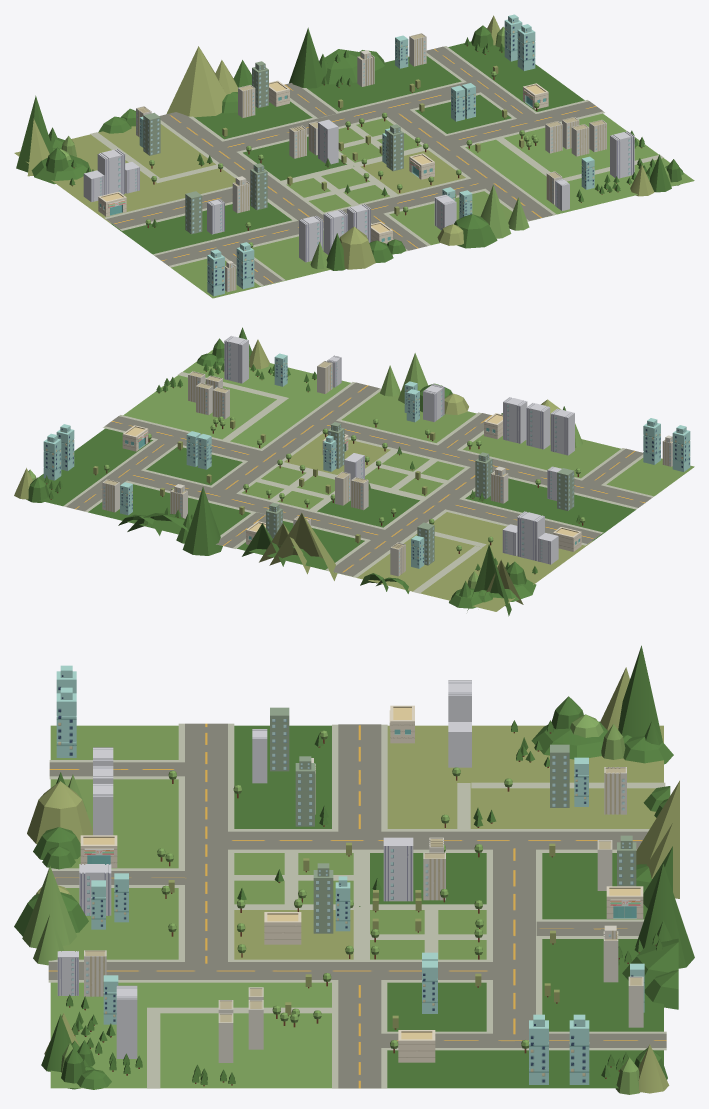
The picture shows the model from 3 angles, top to bottom: view 1: azimuth 30°, elevation 25°; view 2: azimuth 150°, elevation 25°; view 3: azimuth 270°, elevation 25°; orthographic projection. The views are drawn at different scales.
Parts seen in each view (by area): view 1: pPlane2, road2, polySurface1, pCube48, polySurface2 (×4), pCube35, pCube46, pCube76, pCube69, pCube53, pCube40, pCube110 (+33 smaller); view 2: pPlane2, road2, polySurface1, pCube35, pCube48, pCube69, pCube76, pCube110, pCube109, polySurface2 (×2), pCube75, pCube13 (+26 smaller); view 3: pPlane2, road2, polySurface1, polySurface2 (×5), pCube46, pCube35, pCube13, pCube55, pCube64, pCube48, pPlane15, pCube76 (+41 smaller).
Part boxes in pixels (x1=…): pPlane2: x1=14, y1=41, x2=694, y2=298; road2: x1=106, y1=46, x2=602, y2=285; polySurface1: x1=104, y1=46, x2=604, y2=286; pCube48: x1=166, y1=46, x2=226, y2=117; polySurface2 (×4): x1=98, y1=80, x2=548, y2=216; pCube35: x1=289, y1=27, x2=323, y2=88; pCube46: x1=339, y1=226, x2=375, y2=269; pCube76: x1=610, y1=131, x2=634, y2=178; pCube69: x1=97, y1=148, x2=125, y2=194; pCube53: x1=454, y1=214, x2=497, y2=248; pCube40: x1=325, y1=49, x2=360, y2=84; pCube110: x1=299, y1=215, x2=323, y2=262; pPlane2: x1=38, y1=350, x2=694, y2=611; road2: x1=66, y1=382, x2=651, y2=576; polySurface1: x1=63, y1=382, x2=653, y2=577; pCube35: x1=182, y1=486, x2=222, y2=555; pCube48: x1=269, y1=513, x2=337, y2=580; pCube69: x1=517, y1=511, x2=544, y2=561; pCube76: x1=224, y1=335, x2=248, y2=383; pCube110: x1=550, y1=408, x2=574, y2=455; pCube109: x1=526, y1=403, x2=550, y2=449; polySurface2 (×2): x1=122, y1=425, x2=581, y2=551; pCube75: x1=503, y1=397, x2=527, y2=443; pCube13: x1=467, y1=544, x2=511, y2=616; pPlane2: x1=50, y1=725, x2=663, y2=1088; road2: x1=47, y1=723, x2=666, y2=1088; polySurface1: x1=48, y1=723, x2=666, y2=1088; polySurface2 (×5): x1=80, y1=705, x2=643, y2=1062; pCube46: x1=27, y1=781, x2=92, y2=843; pCube35: x1=635, y1=864, x2=694, y2=968; pCube13: x1=618, y1=645, x2=662, y2=741; pCube55: x1=22, y1=866, x2=76, y2=948; pCube64: x1=383, y1=837, x2=413, y2=901; pCube48: x1=636, y1=780, x2=679, y2=898; pPlane15: x1=353, y1=853, x2=369, y2=959; pCube76: x1=116, y1=985, x2=137, y2=1058.
Size of the model in its own units: 717 by 97.89 by 555.
Materials: 10 (3 with a texture image).
